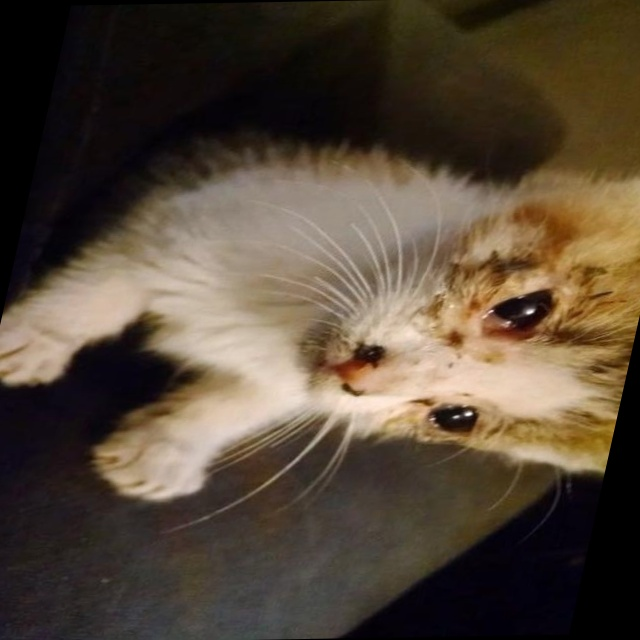eye_infection: (471, 289, 553, 352), (417, 391, 483, 446)
